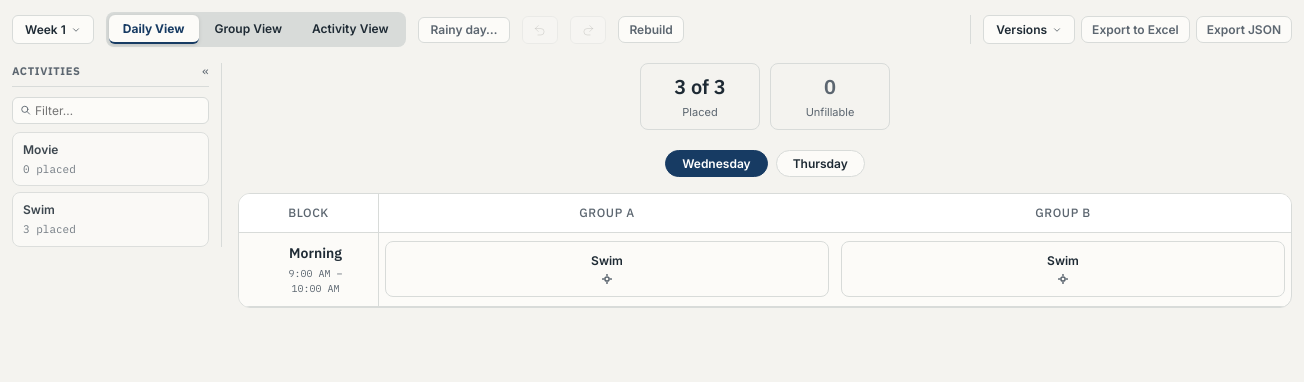
Test: Rainy day… › a failed version save writes no cells
Expected: the button "Daily View" is shown, [109,15,198,44]
Click the button "Rainy day…" at (464,30), box [418,16,510,42]
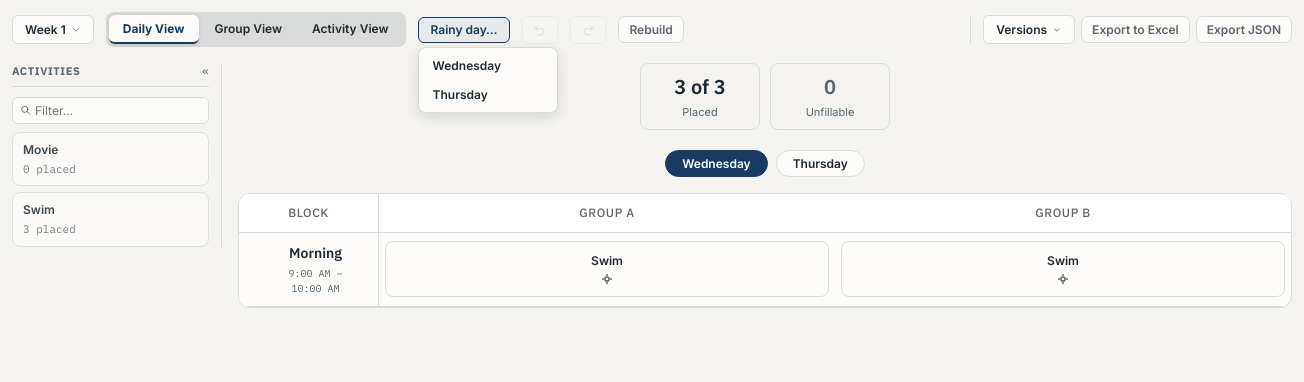
Click the 1st button "Wednesday" at (488,65), box [423,52,553,78]
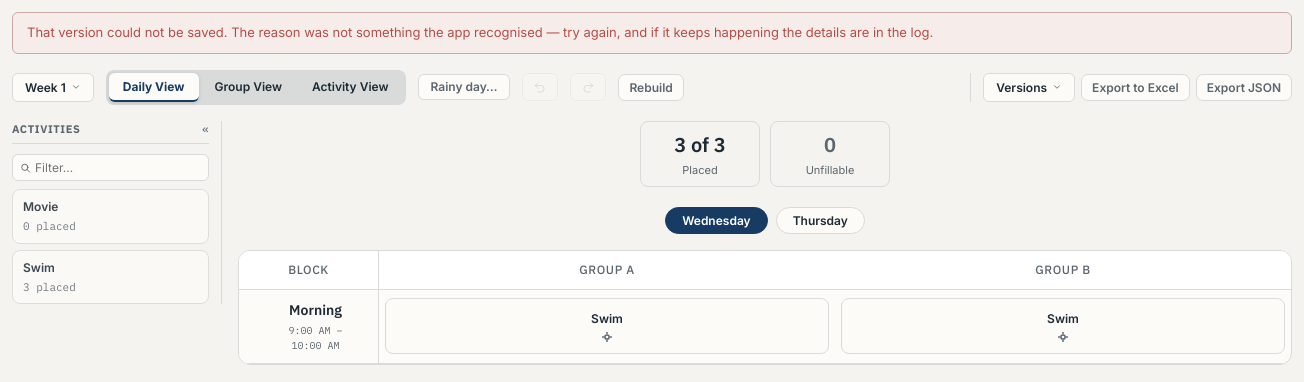
Now the text "could not be saved" is shown, box [27,24,933,40]
